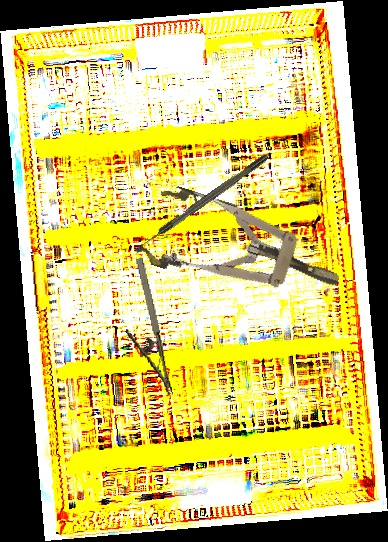Hook Surgical: (135, 153, 271, 251)
Needle Holder: (112, 257, 174, 401)
Speculum: (133, 179, 351, 322)
